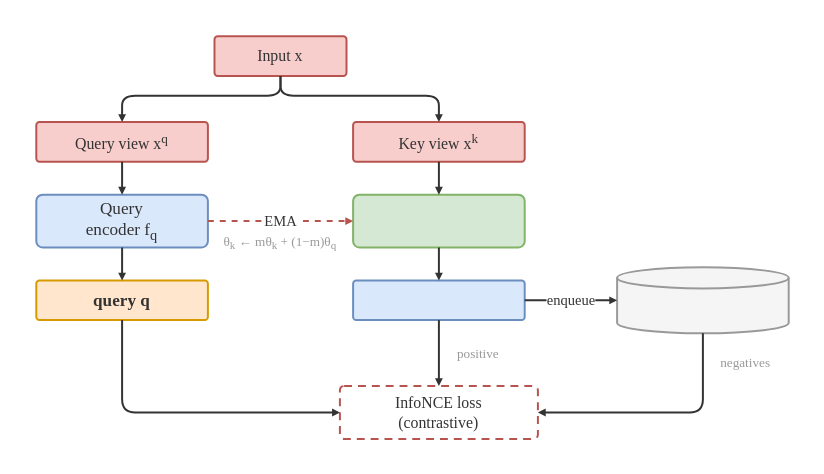
Image size: 824x474. Some labels were removed from this diagram. The shapes that lost their labels are listed below. From the top down, each one's centre as x and y in pixels, then its label:
At pixel 438 220: "Momentum encoder f k".
At pixel 438 299: "key k +".
At pixel 702 300: "Queue of keys k 0 , k 1 , ..., k K".
